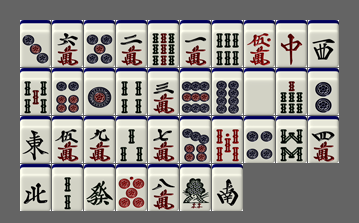0m: (244, 20, 275, 67)
0p: (116, 164, 147, 211)
0s: (212, 116, 243, 163)
1m: (180, 20, 211, 67)
1p: (84, 68, 115, 115)
1s: (180, 164, 211, 211)
1z: (20, 116, 51, 163)
2m: (116, 20, 147, 67)
2p: (308, 68, 339, 115)
2s: (52, 164, 83, 211)
2z: (212, 164, 243, 211)
3m: (148, 68, 179, 115)
3p: (20, 20, 51, 67)
3s: (116, 116, 147, 163)
3z: (308, 20, 339, 67)
4m: (308, 116, 339, 163)
4p: (244, 116, 275, 163)
4s: (116, 68, 147, 115)
4z: (20, 164, 51, 211)
5m: (52, 116, 83, 163)
5p: (84, 20, 115, 67)
5s: (20, 68, 51, 115)
5z: (244, 68, 275, 115)
6m: (52, 20, 83, 67)
6p: (52, 68, 83, 115)
6s: (212, 20, 243, 67)
6z: (84, 164, 115, 211)
7m: (148, 116, 179, 163)
7p: (180, 116, 211, 163)
7s: (276, 68, 307, 115)
7z: (276, 20, 307, 67)
8m: (148, 164, 179, 211)
8p: (212, 68, 243, 115)
8s: (276, 116, 307, 163)
9m: (84, 116, 115, 163)
9p: (180, 68, 211, 115)
9s: (148, 20, 179, 67)
